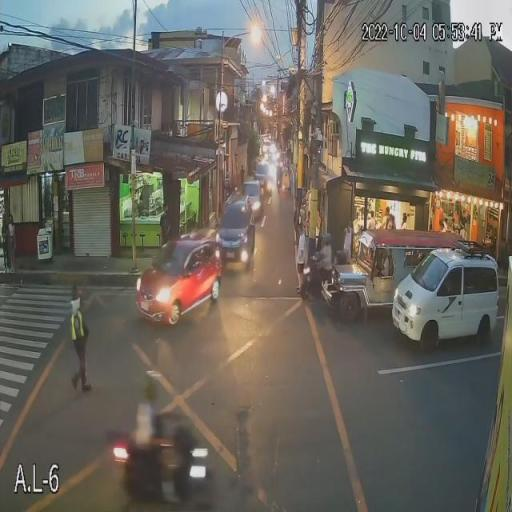helmet: (142, 370, 164, 405), (321, 234, 331, 246)
motorcycle: (108, 429, 213, 505), (292, 263, 346, 298)
rider: (129, 380, 183, 479), (313, 246, 333, 278)
